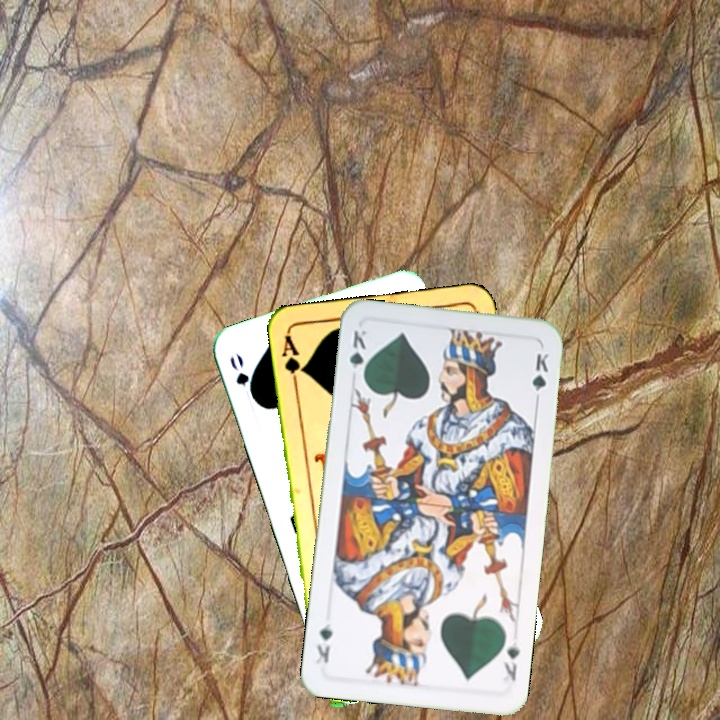GA: (278, 330, 307, 389)
GK: (345, 326, 369, 383), (499, 638, 522, 684)
GO: (225, 349, 260, 405)
